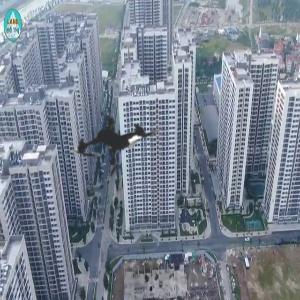drone: (47, 74, 190, 217)
